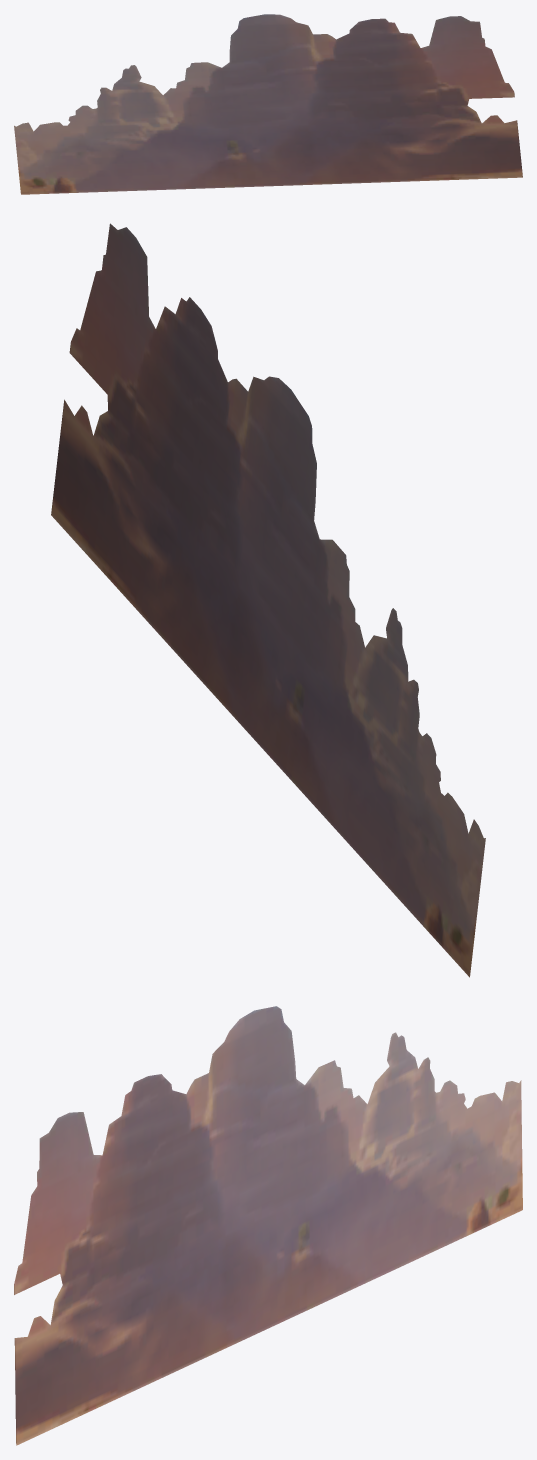
File: pref_sm_sce_066302_mountain05_lv2.fbx
3 views of the same model, one above another, from view 1: azimuth 30°, elevation 25°; view 2: azimuth 150°, elevation 25°; view 3: azimuth 270°, elevation 25° (orthographic). The views are drawn at different scales.
Parts seen in each view (by area): view 1: pref_sm_sce_066302_mountain05_lv2; view 2: pref_sm_sce_066302_mountain05_lv2; view 3: pref_sm_sce_066302_mountain05_lv2.
Part boxes in pixels (x1,y1,x2,y2): pref_sm_sce_066302_mountain05_lv2: (14,14,522,194); pref_sm_sce_066302_mountain05_lv2: (51,223,485,977); pref_sm_sce_066302_mountain05_lv2: (14,1006,522,1445).
Size of the model in its own units: 23.46 by 12.49 by 16.43.
